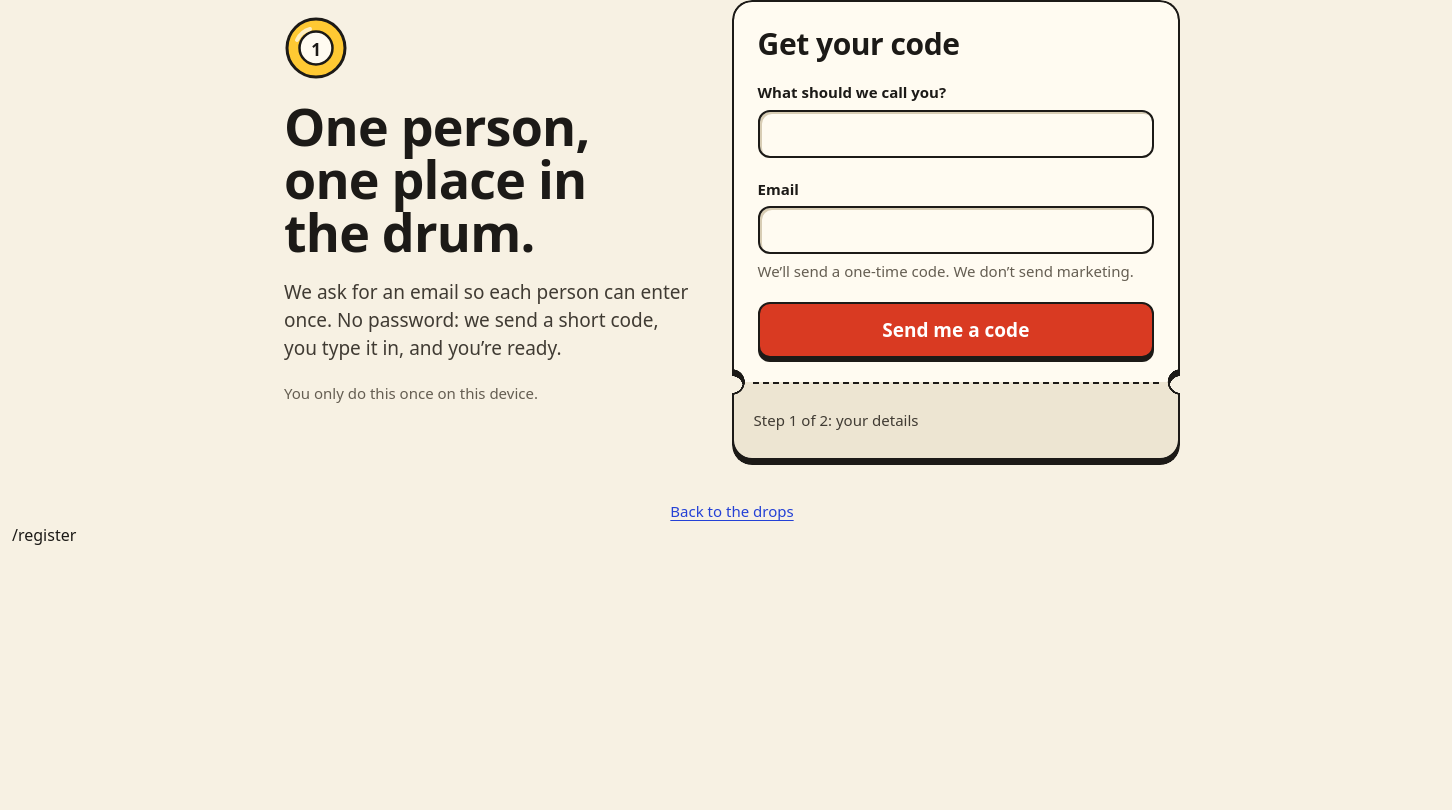
details step › shows a calm message with the wait time when rate limited
This screenshot has width=1452, height=810.
Step 1. Type "Asha" into the field labelled "What should we call you?" → point(956, 134), box [758, 110, 1154, 158]
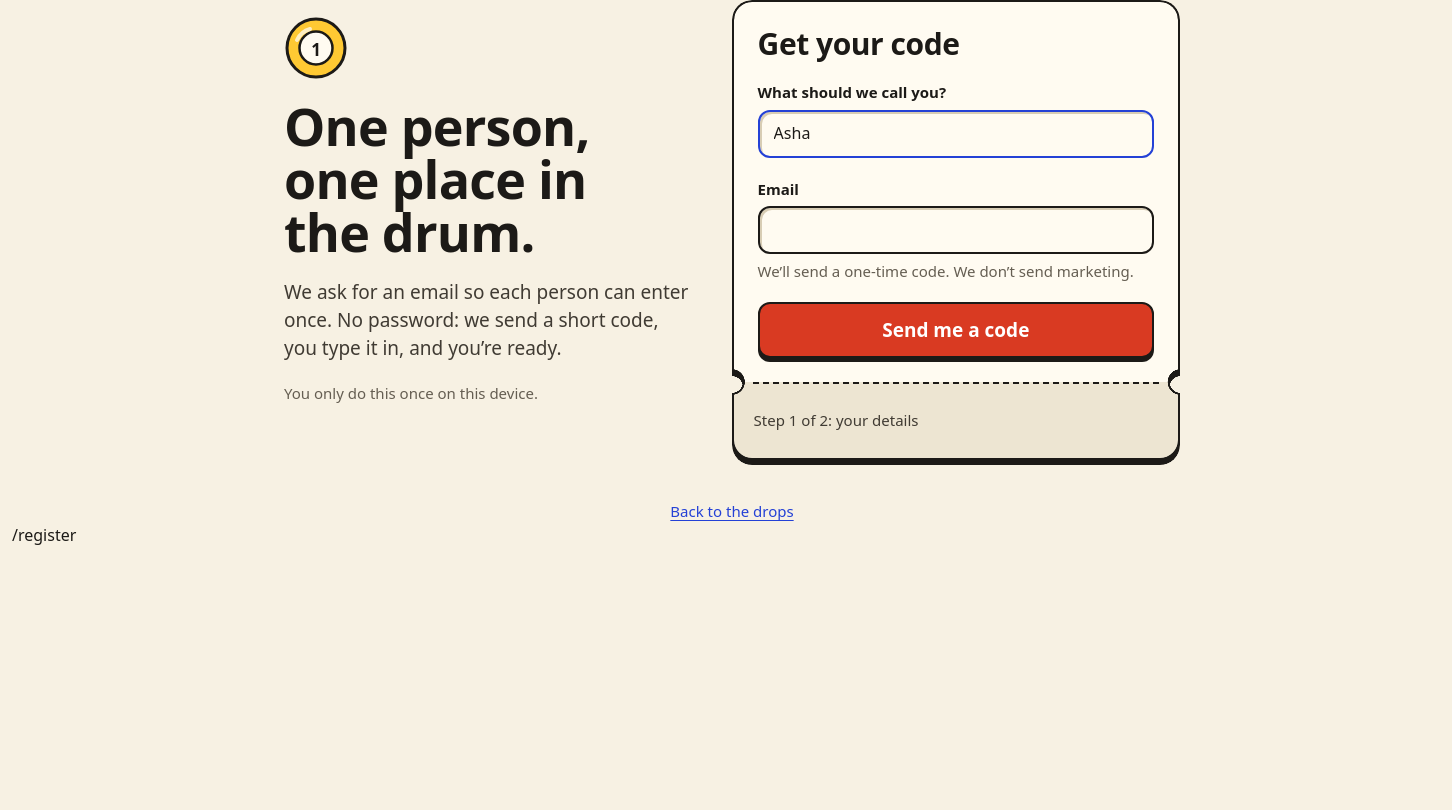
Step 2. Type "asha@example.com" into the field labelled "Email" → point(956, 230), box [758, 206, 1154, 254]
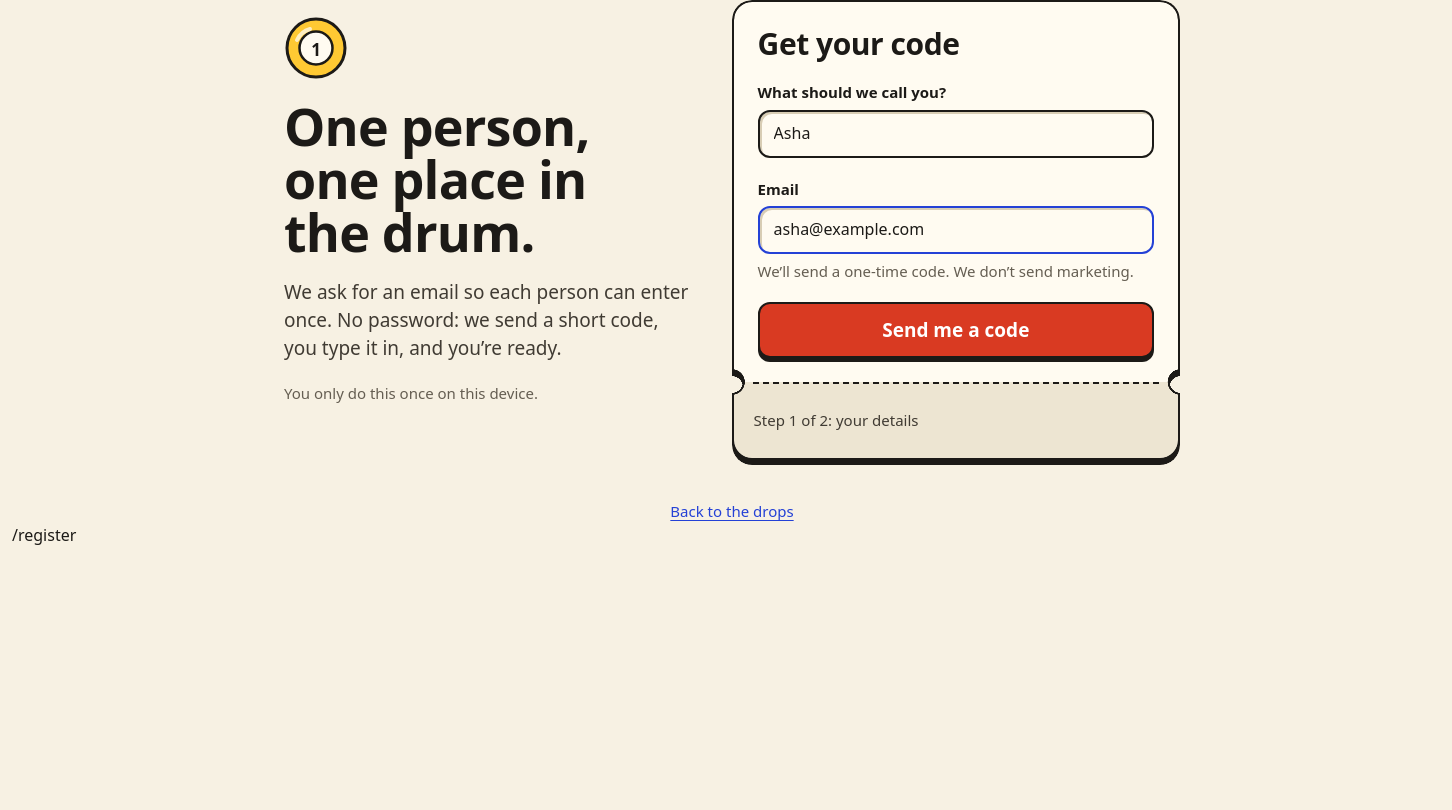
Step 3. Click the button "Send me a code" → point(956, 330), box [758, 302, 1154, 358]
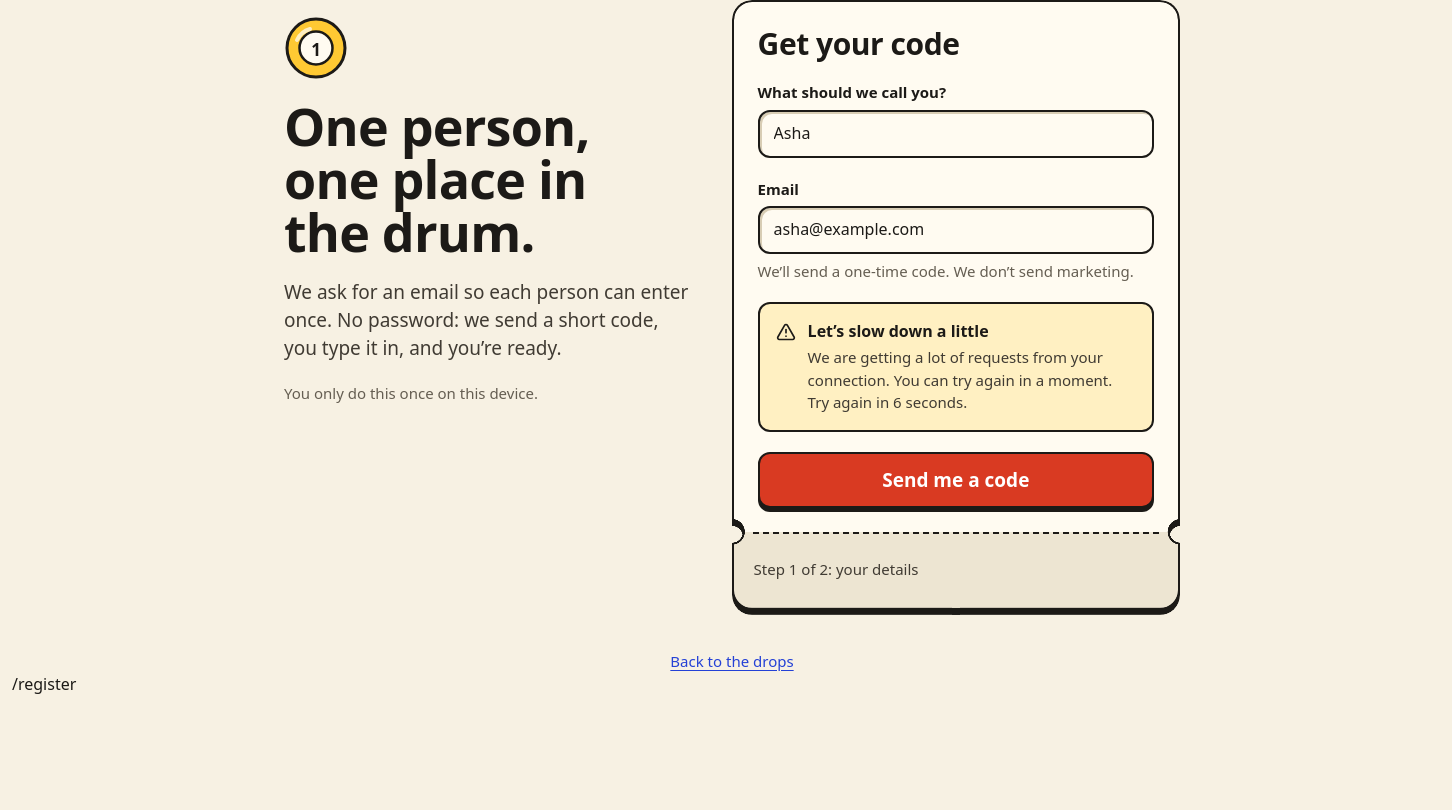
Expected: the text "Let’s slow down a little" is shown, [808, 320, 989, 342]
Expected: the text "try again in 6 seconds" is shown, [808, 347, 1112, 412]
